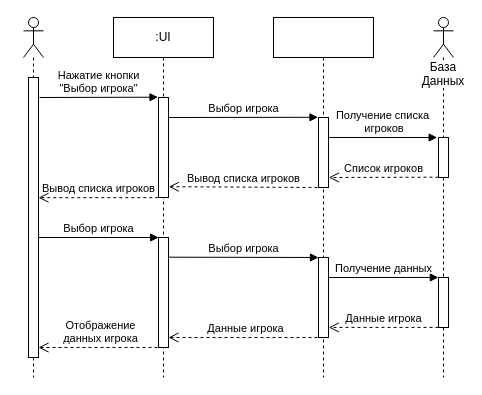
Some shapes in this 482 by 395 pixel diagram are drawn without their labels. Each missing label, with the box of its shape:
:ViewModel: (272, 16, 374, 378)
Игрок: (22, 16, 44, 378)
